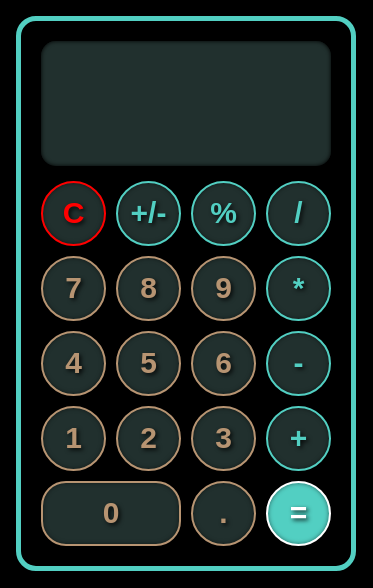
Scenario: Calculator › Show "ERROR" for negative numbers
The image size is (373, 588).
What coordinates should you click on to do the following:
click the button "0"
I would click on:
 (111, 513)
Its box is [41,480,181,546].
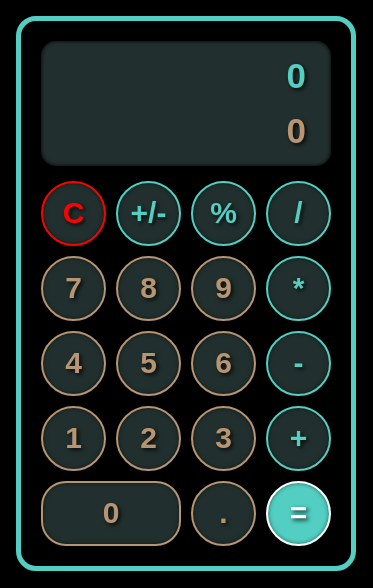
What coordinates should you click on to do the following:
click the button "-"
I would click on:
 (298, 363)
Its box is [266,330,331,396].
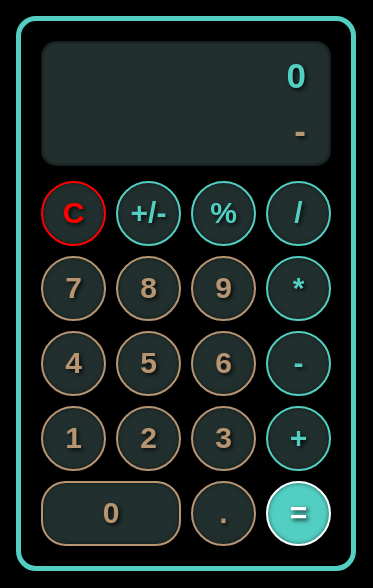
What coordinates should you click on to do the following:
click the button "1"
I would click on:
 (74, 438)
Its box is [41,406,106,470].
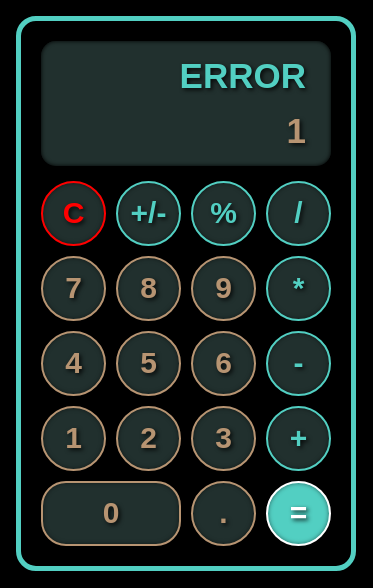
Check: the text "ERROR" is shown, box [180,56,306,96]
